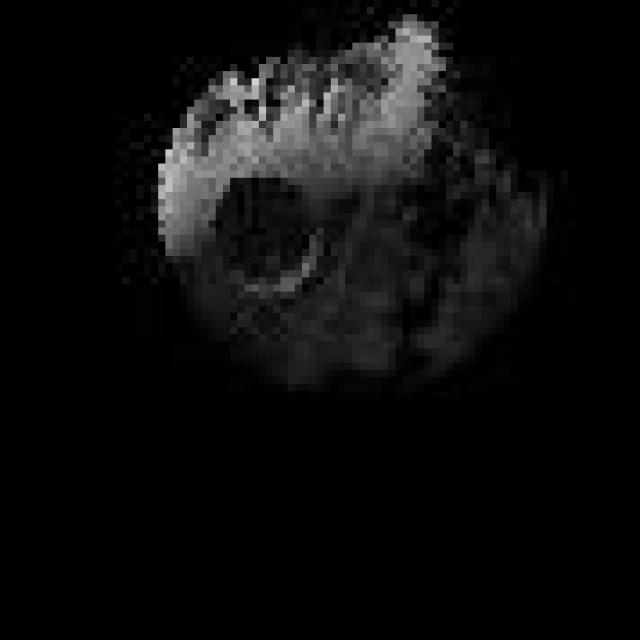Death Star: (144, 7, 554, 398)
